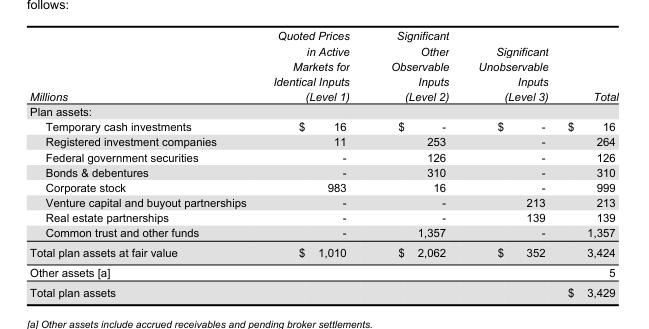table: (29, 29, 617, 298)
table column: (29, 29, 259, 298), (259, 29, 369, 298), (462, 29, 557, 298), (369, 29, 462, 298), (557, 29, 617, 298)
table column header: (29, 29, 617, 103)
table projected row header: (29, 103, 617, 118)
table row: (29, 29, 617, 103), (29, 242, 617, 262), (29, 262, 617, 282), (29, 224, 617, 242), (29, 148, 617, 164), (29, 282, 617, 298), (29, 103, 617, 118), (29, 118, 617, 133), (29, 133, 617, 148), (29, 164, 617, 179), (29, 179, 617, 194), (29, 194, 617, 209), (29, 209, 617, 224)
